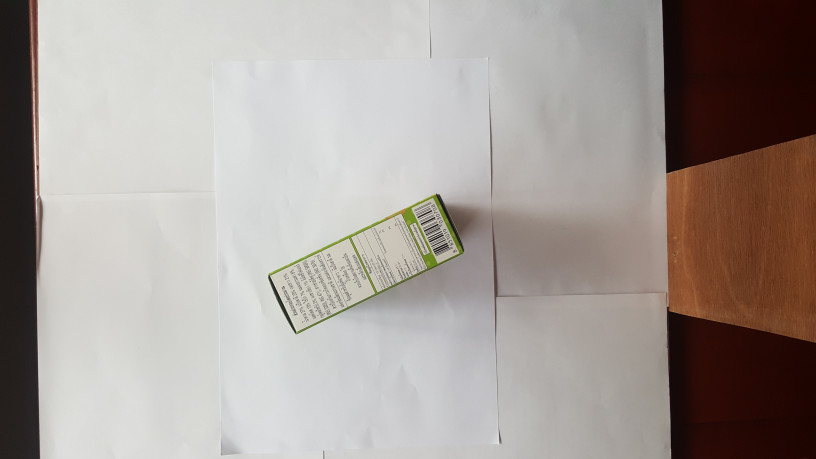collon-matcha: (268, 192, 465, 337)
